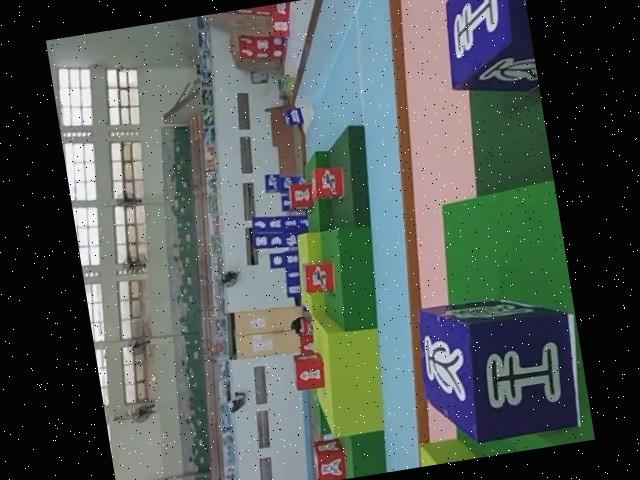R2 Fake Blue: (408, 281, 588, 452)
R2 Real Blue: (434, 0, 539, 104)
